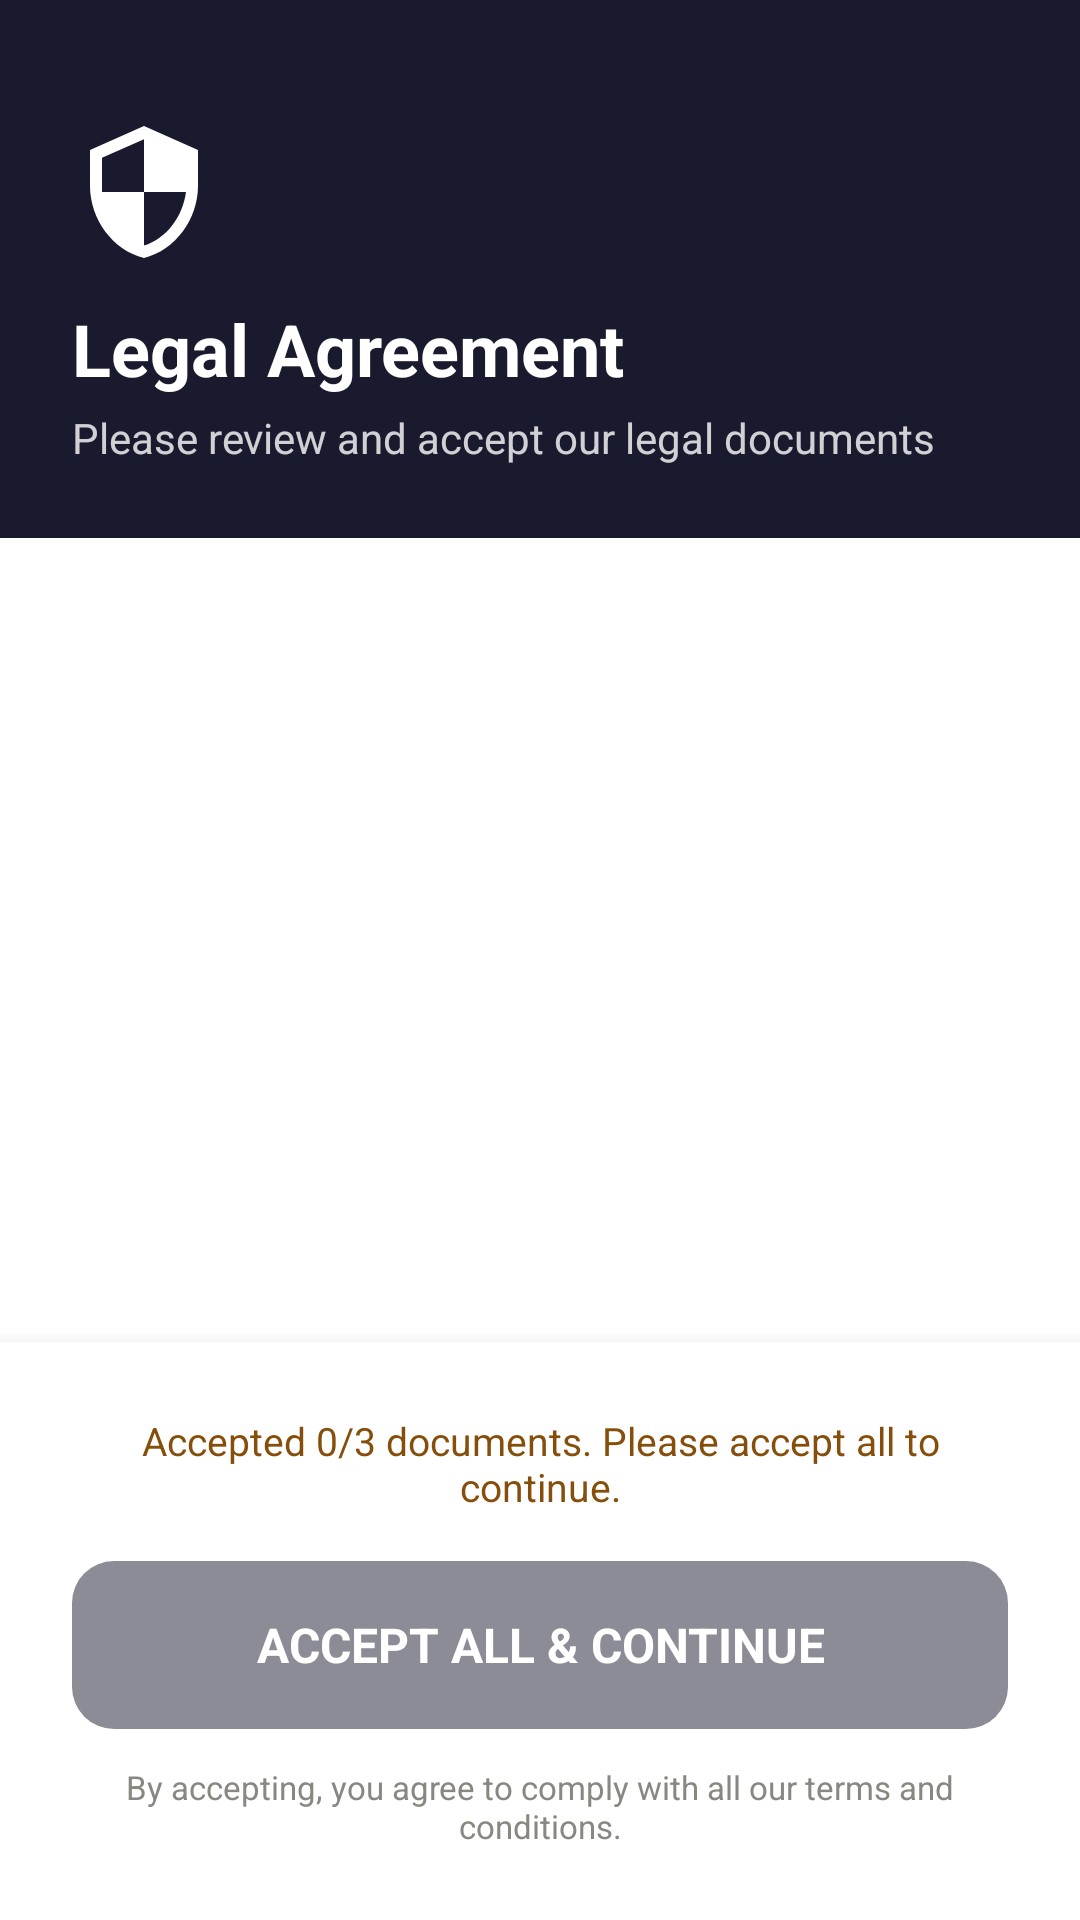

Named icons in this screenshot (1080px x 1920px) and their centers, [x,y]:
legal shield: [144,192]
